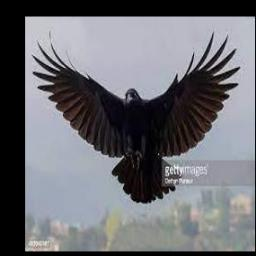Crow: (31, 29, 241, 203)
